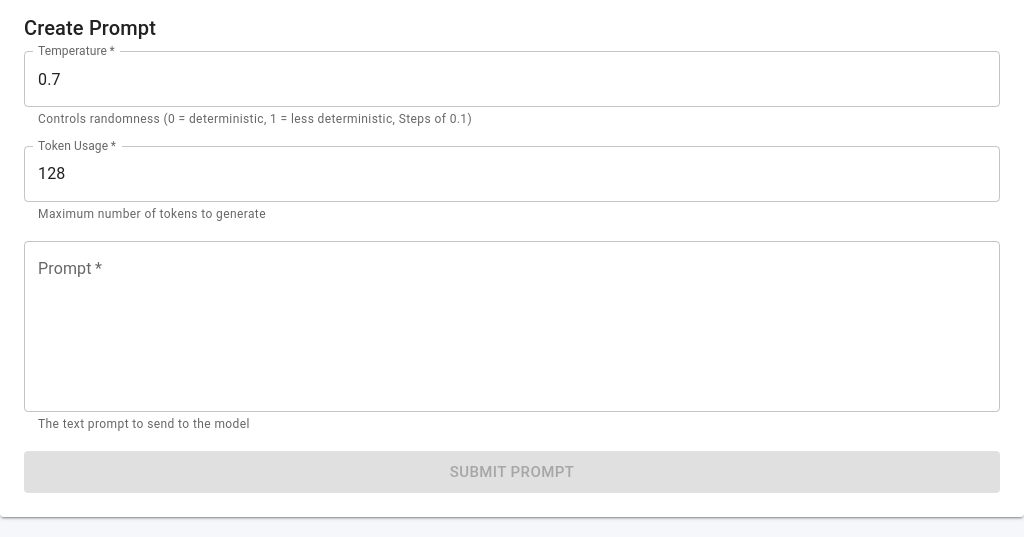
it: JobsPage - Prompt Input Form › clears form after successful submission
The image size is (1024, 537).
Expected: the heading "Create Prompt" is shown, [24,16,156,40]
Replace the text in the number field labelled "Temperature *" with "0.5" at (512, 79), box [24,51,1000,107]
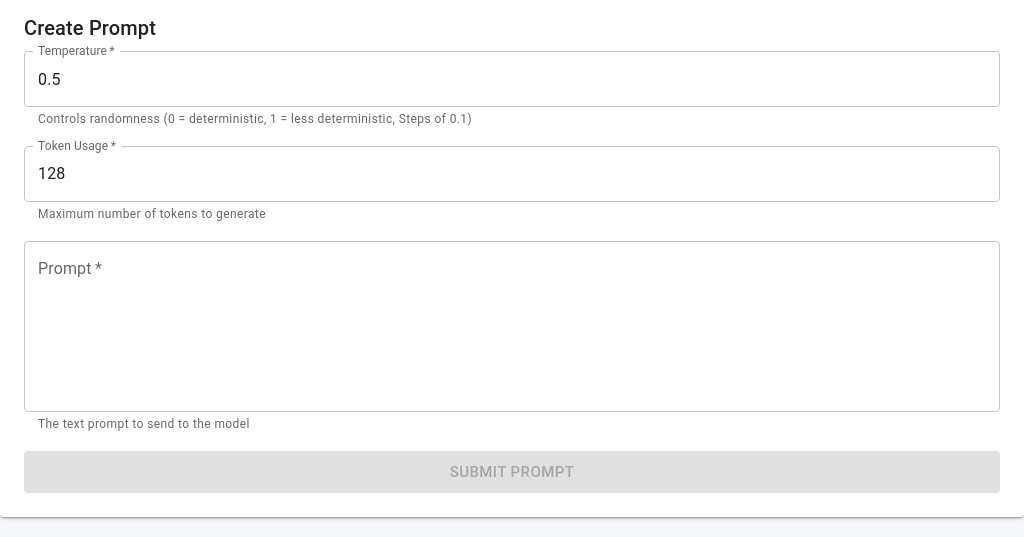
Replace the text in the number field labelled "Token Usage *" with "256" at (512, 174), box [24,146,1000,202]
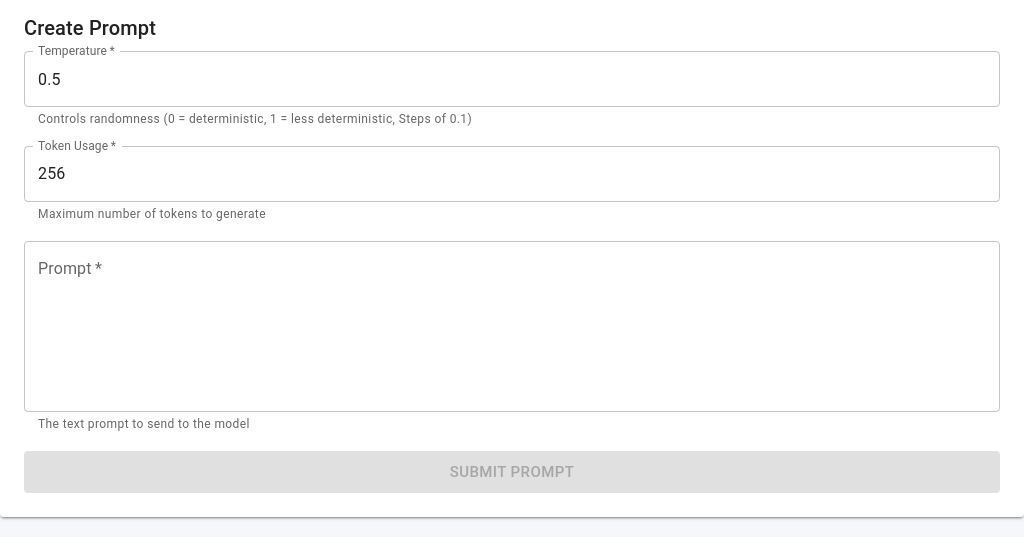
Type "Test prompt" into the text box labelled "Prompt *".
click(512, 326); type("Test prompt")  # box [38,257,986,395]
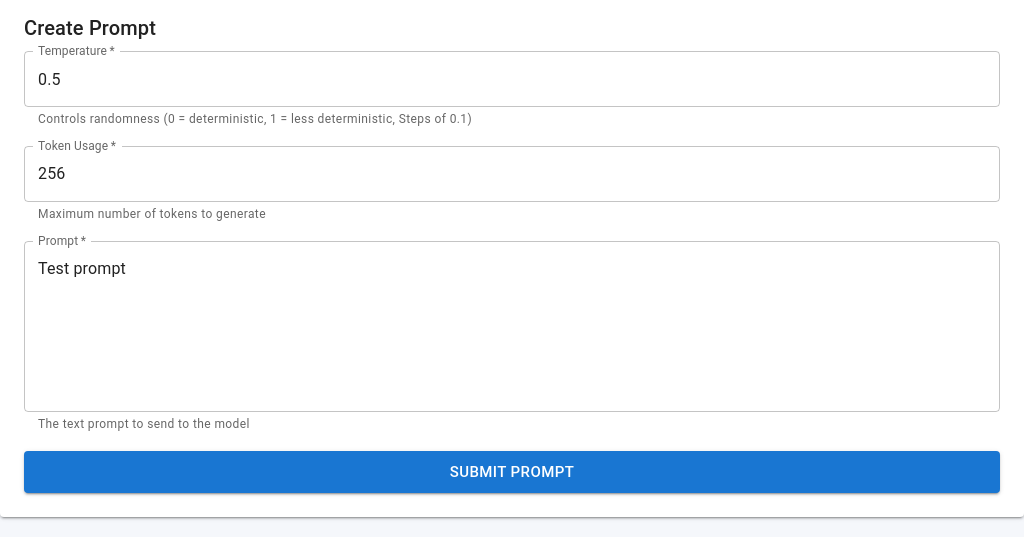
Click the button "Submit Prompt".
click(512, 472)  # box [24,451,1000,493]
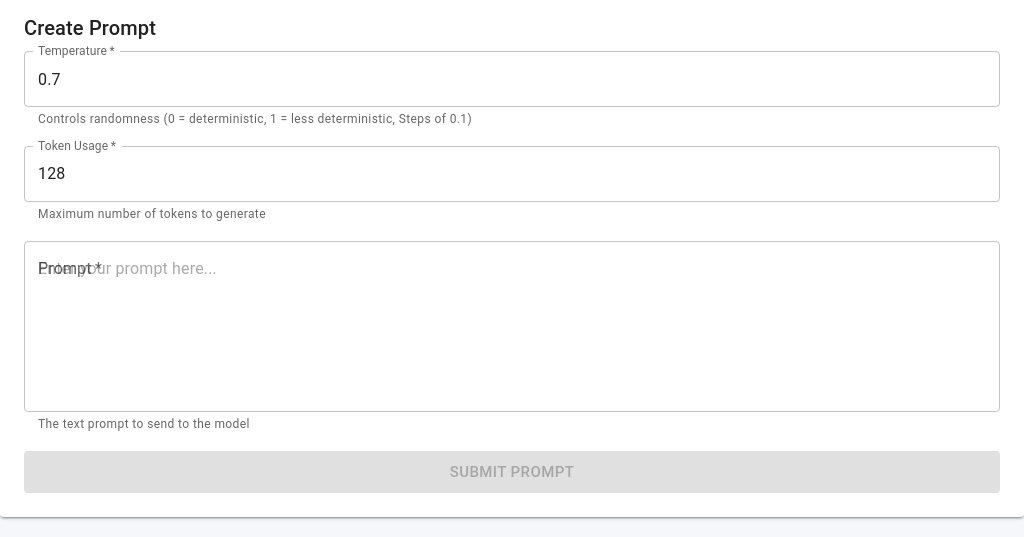
Expected: the number field labelled "Temperature *" holds "0.7", [24,51,1000,107]
Expected: the number field labelled "Token Usage *" holds "128", [24,146,1000,202]
Expected: the text box labelled "Prompt *" is empty, [38,257,986,395]
